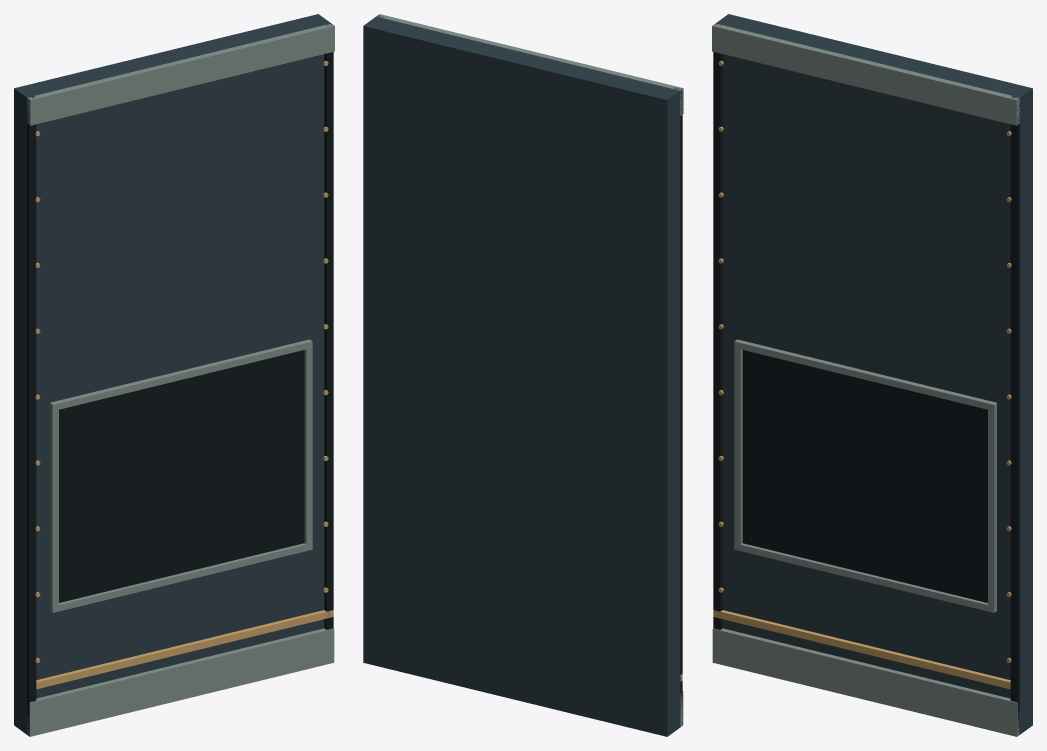
The model's file is wall-bay-6.glb.
The picture shows the model from 3 angles, left to right: view 1: azimuth 30°, elevation 25°; view 2: azimuth 150°, elevation 25°; view 3: azimuth 330°, elevation 25°; orthographic projection.
Parts seen in each view (by area): view 1: wall-bay-6; view 2: wall-bay-6; view 3: wall-bay-6.
Boxes of the visible parts, x1,y1,x2,y2 form: wall-bay-6: [14, 14, 334, 736]; wall-bay-6: [363, 14, 683, 736]; wall-bay-6: [712, 14, 1032, 736].
Size of the model in its own units: 3 by 6 by 0.28.
